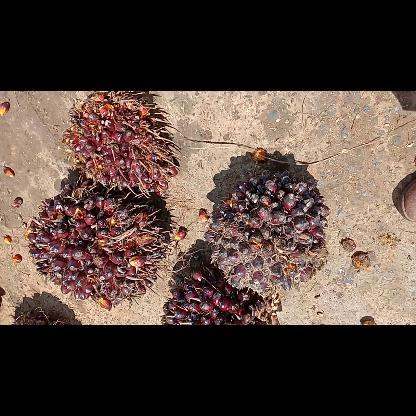Kurang masak: (27, 176, 182, 310), (204, 170, 328, 298), (62, 91, 178, 199), (162, 268, 270, 324)
